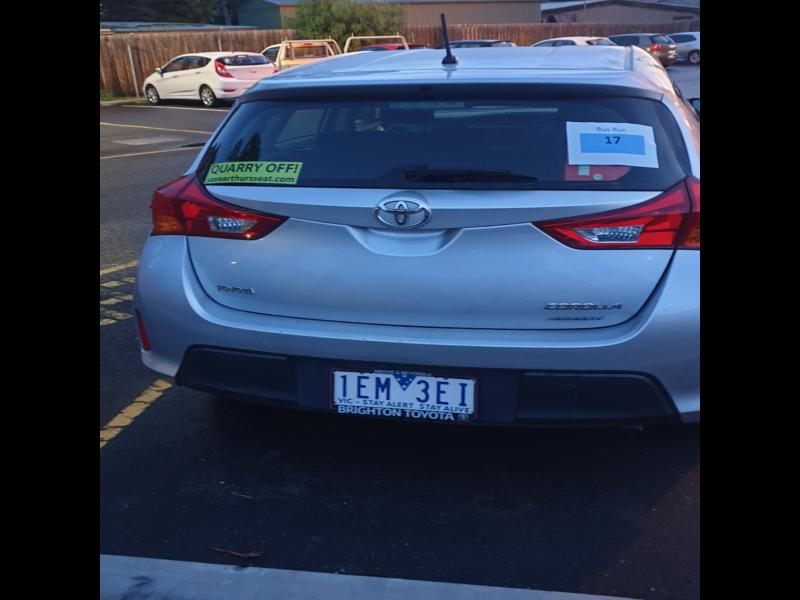BusRun: (581, 132, 648, 154)
PlateNo: (332, 367, 477, 416)
